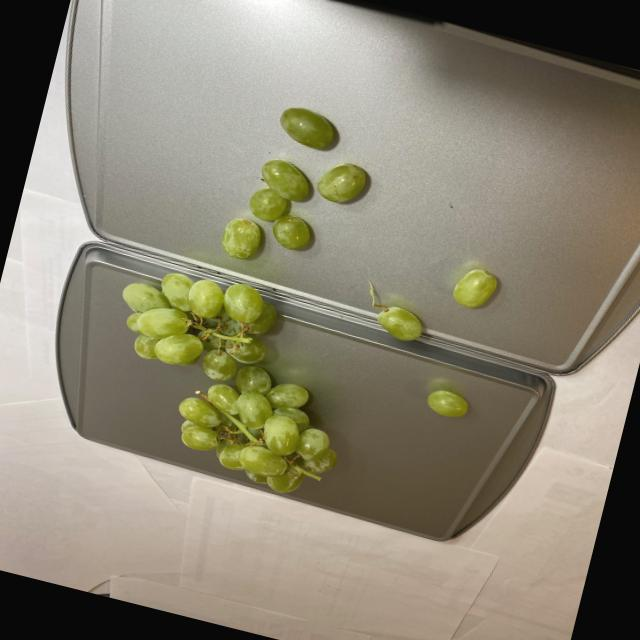grapes: (86, 259, 370, 503), (218, 96, 380, 284), (356, 248, 506, 424)
